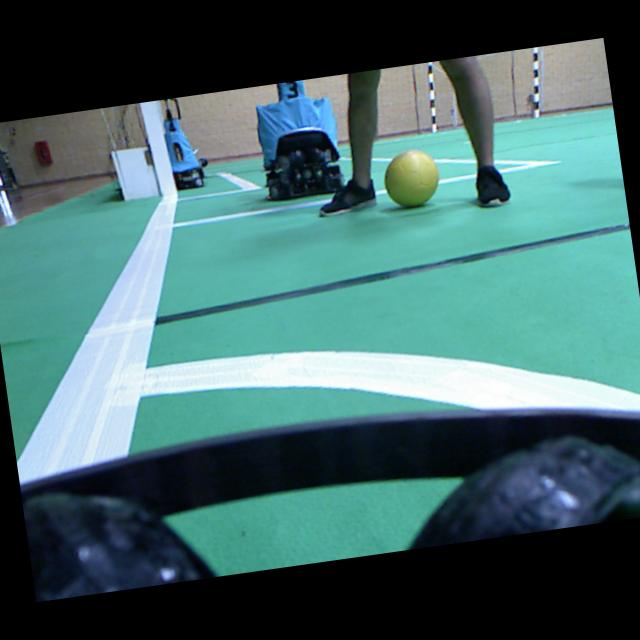ball: (384, 149, 438, 207)
goal: (140, 100, 176, 196)
